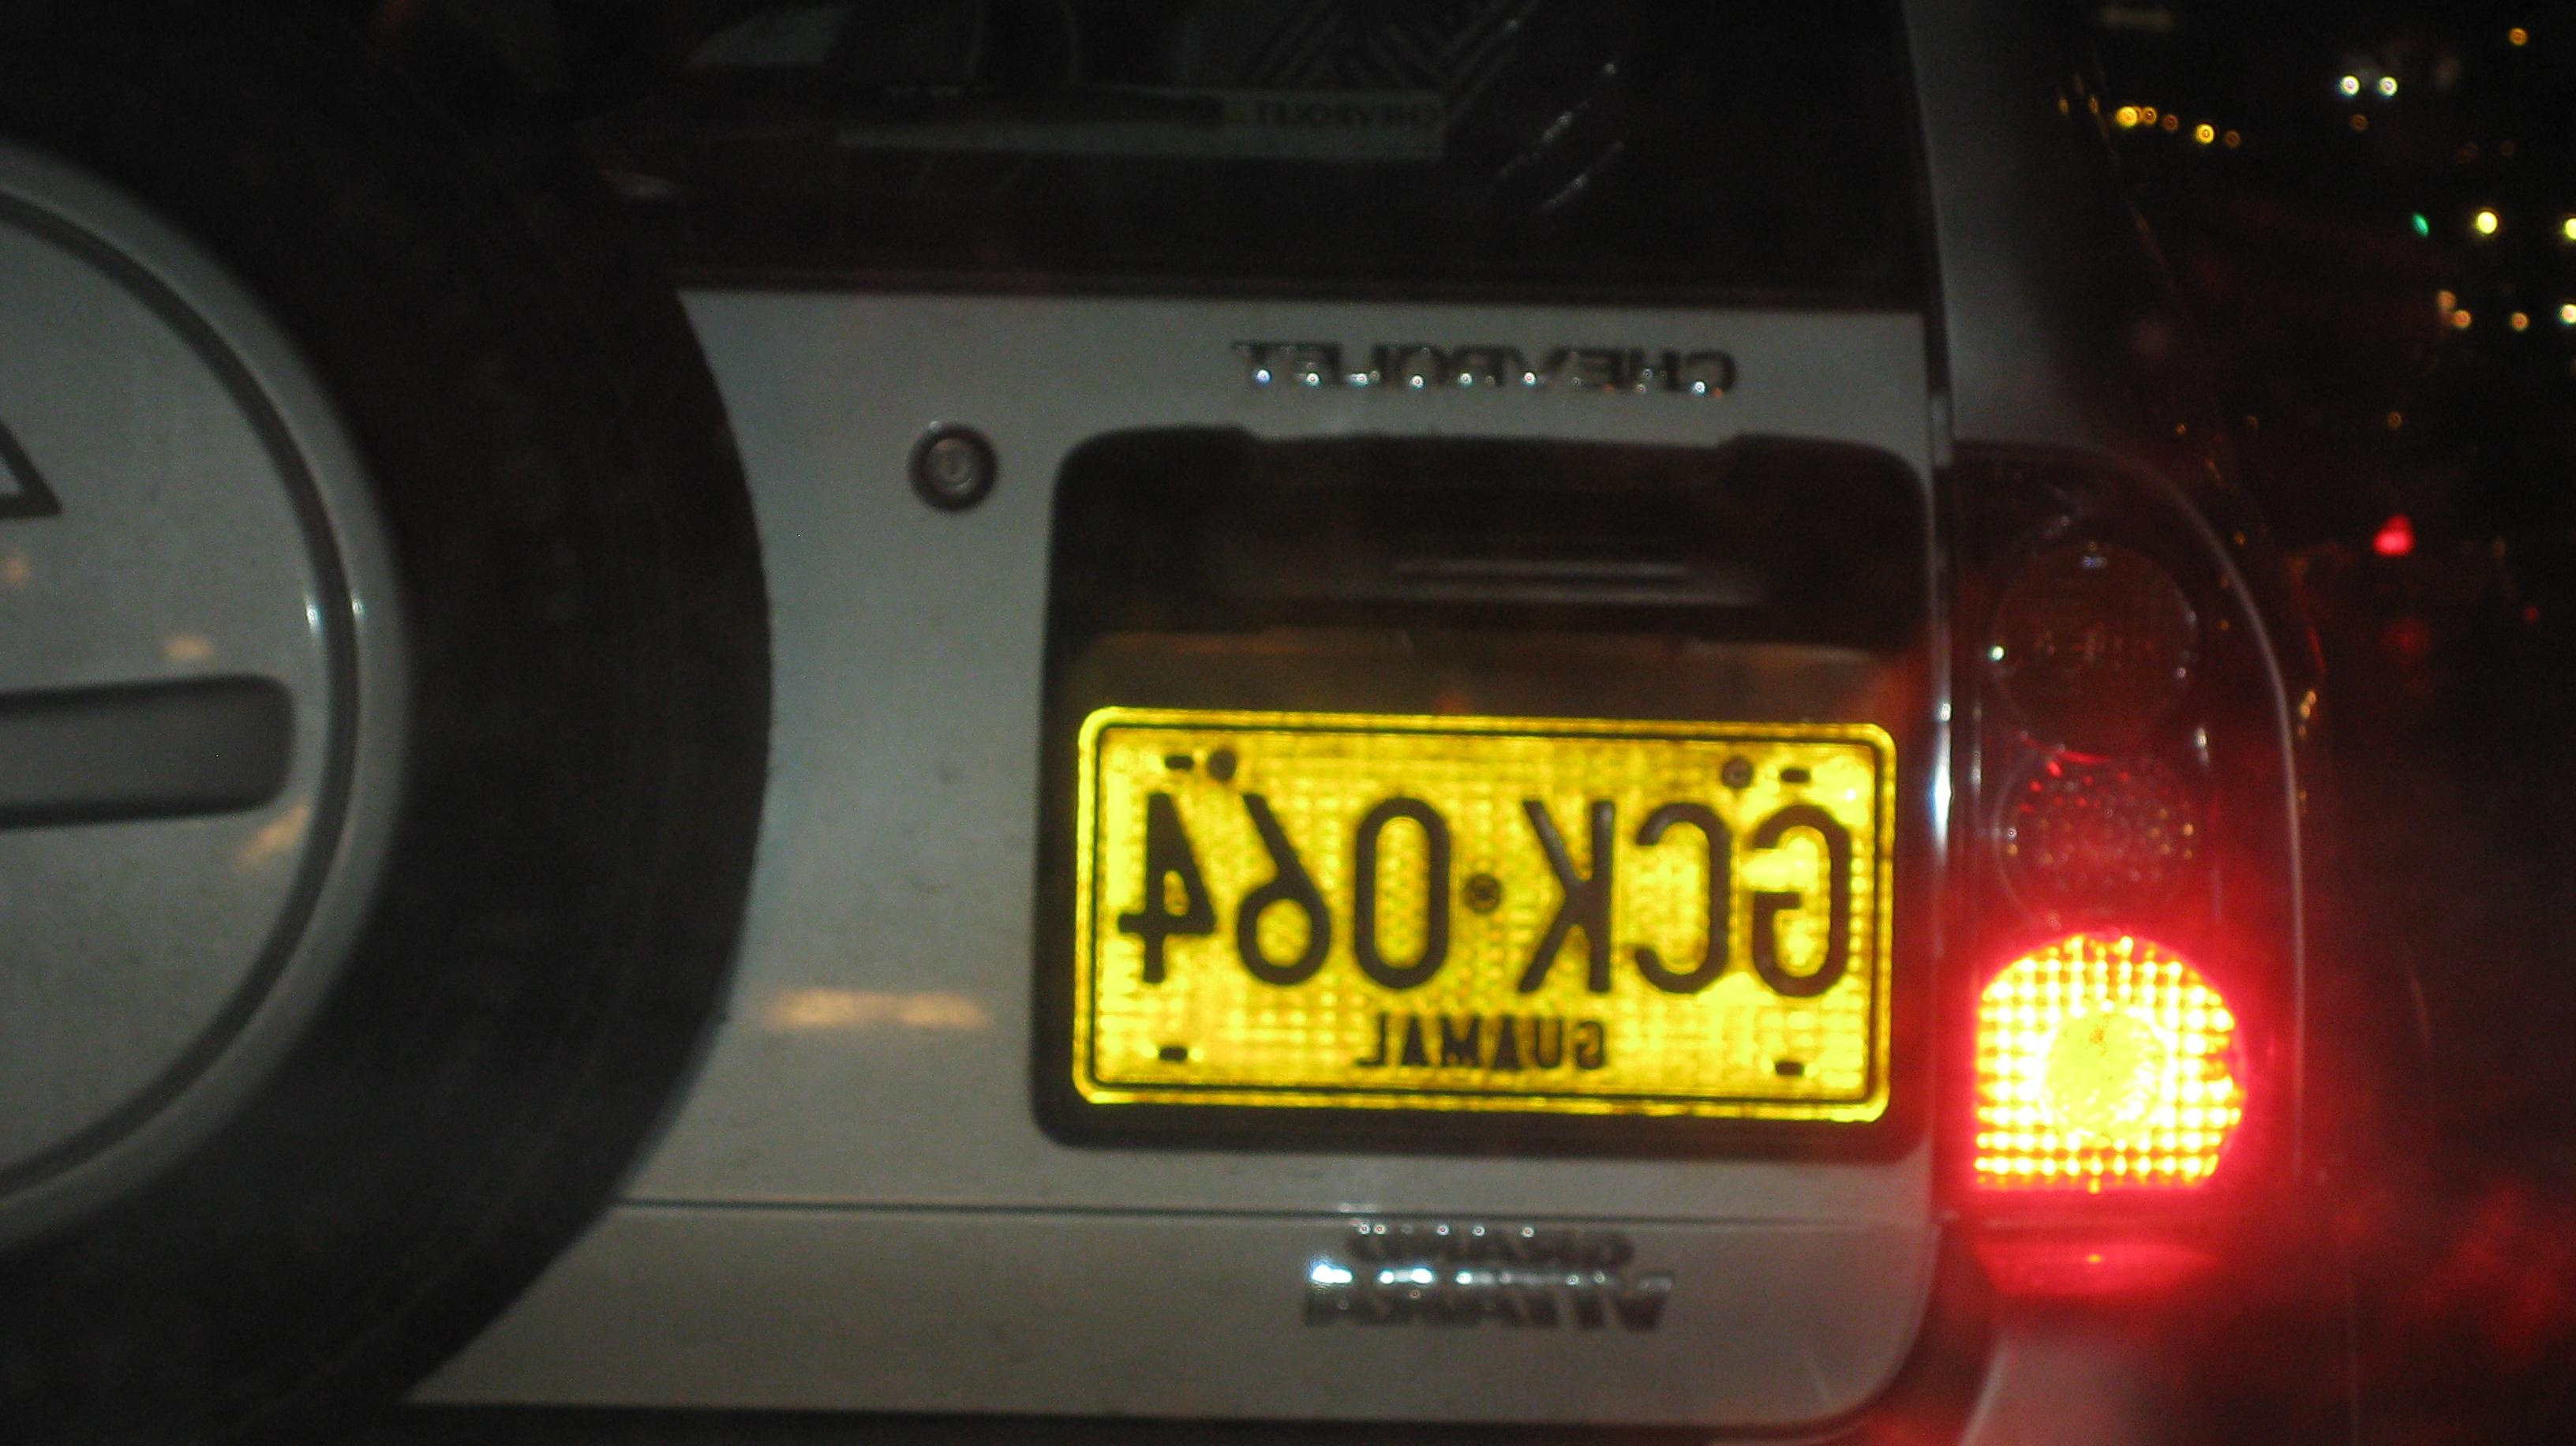placas: (1060, 689, 1920, 1133)
